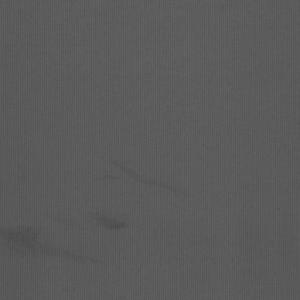Stain: (1, 221, 101, 267), (220, 180, 300, 200), (92, 210, 132, 238)
Wrinkle: (104, 154, 190, 204)
